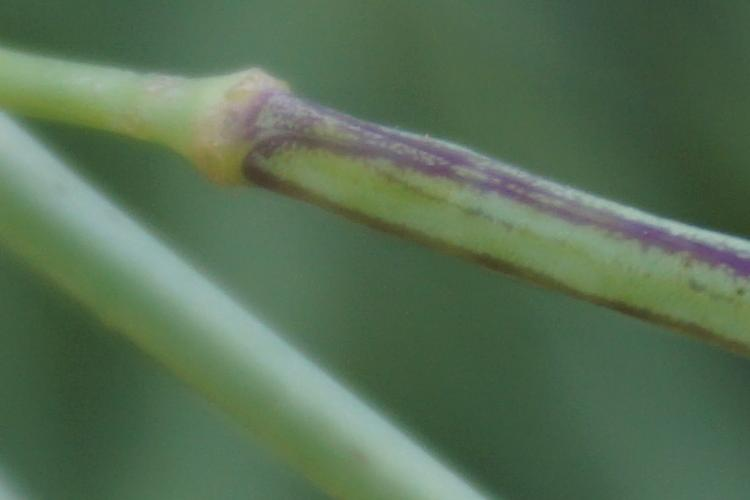pod: (206, 64, 750, 367)
